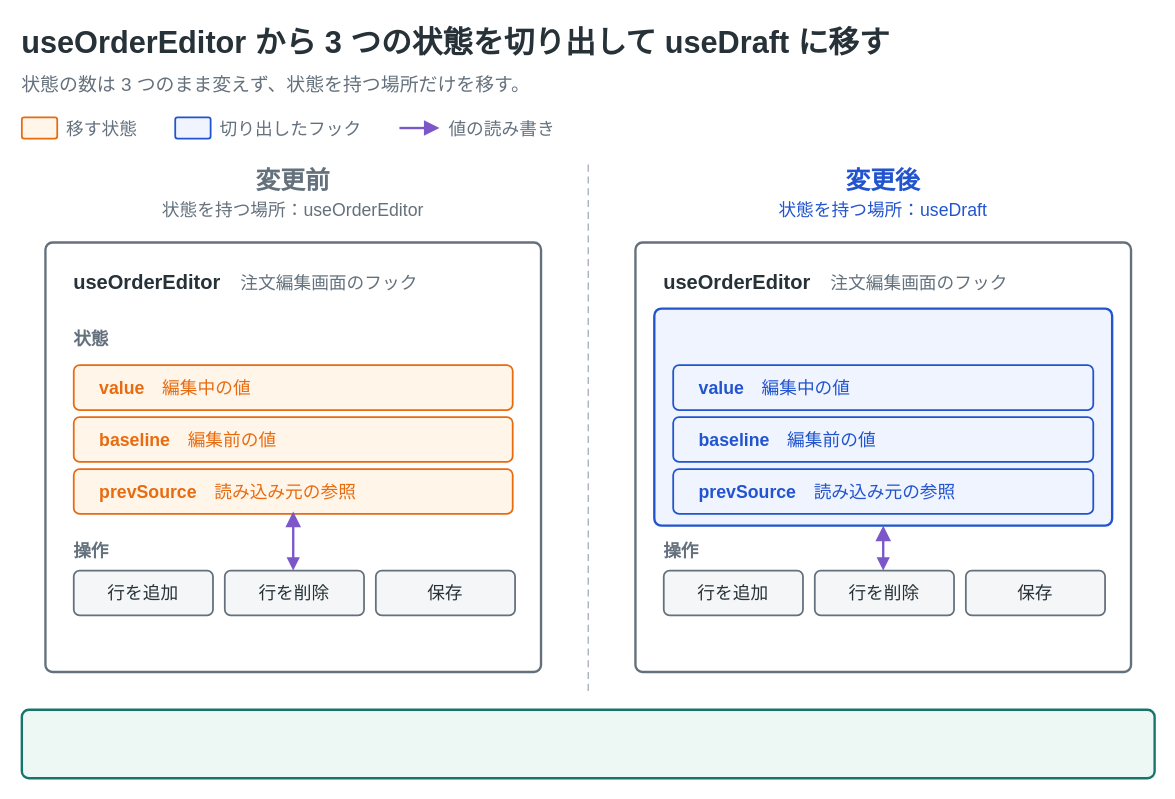
The diagram is 1175 pixels wide and 799 high, and some of its shapes have lost their labels. The box of each missing label's shape, as (x1, y1, x2, y2) in pixels:
useDraft 編集中の値の管理: (653, 307, 1113, 526)
今回の効果 値の管理を useDraft だけでテストできるようになり、useOrderEditor は操作の組み立てに専念できる。: (20, 708, 1155, 779)
